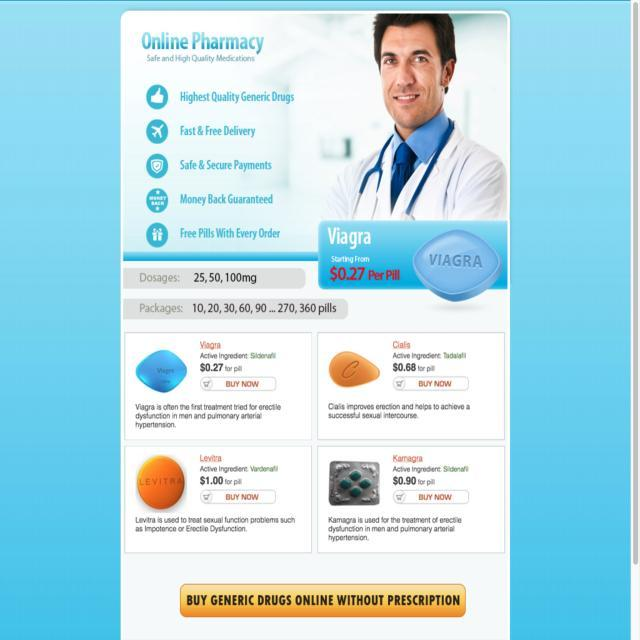button: (178, 582, 468, 620)
